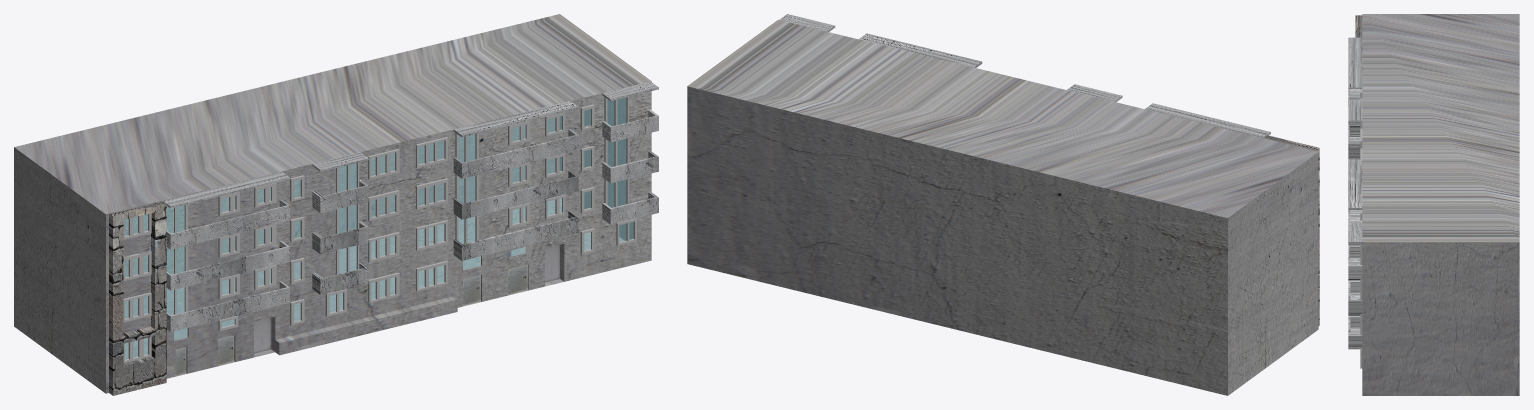
The model's file is 2klatki-3pietra.FBX.
The picture shows the model from 3 angles, left to right: view 1: azimuth 30°, elevation 25°; view 2: azimuth 150°, elevation 25°; view 3: azimuth 270°, elevation 25°; orthographic projection. The views are drawn at different scales.
Parts seen in each view (by area): view 1: Box001; view 2: Box001; view 3: Box001.
Boxes of the visible parts, x1,y1,x2,y2 form: Box001: [14, 14, 658, 395]; Box001: [687, 14, 1319, 395]; Box001: [1348, 14, 1519, 395].
Bounding box in the file's own units: 762 × 239 × 242.
Materials: 7 (5 with a texture image).
